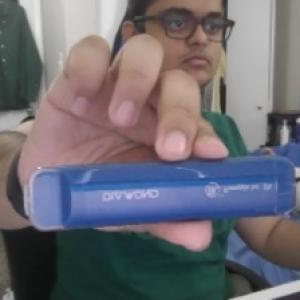Diamond-E-Ciggirate: (17, 152, 300, 235)
